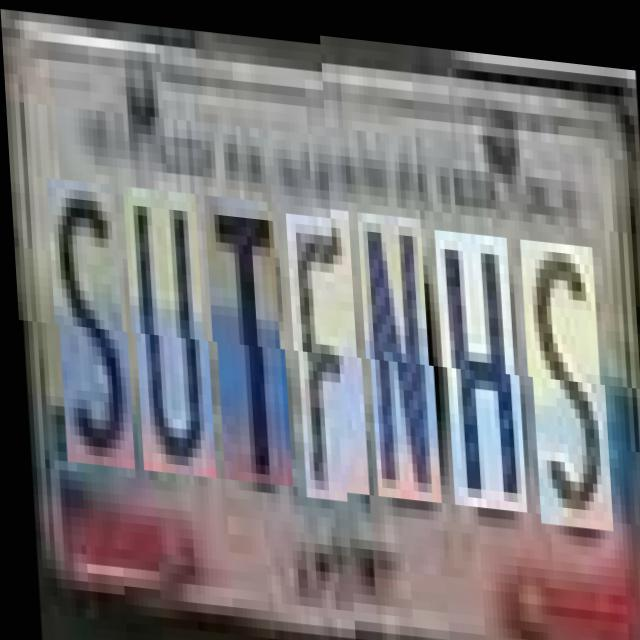F: (288, 207, 364, 496)
H: (437, 229, 522, 510)
N: (360, 213, 436, 502)
S: (523, 236, 608, 526), (49, 178, 130, 467)
T: (206, 192, 287, 480)
U: (125, 184, 210, 474)
